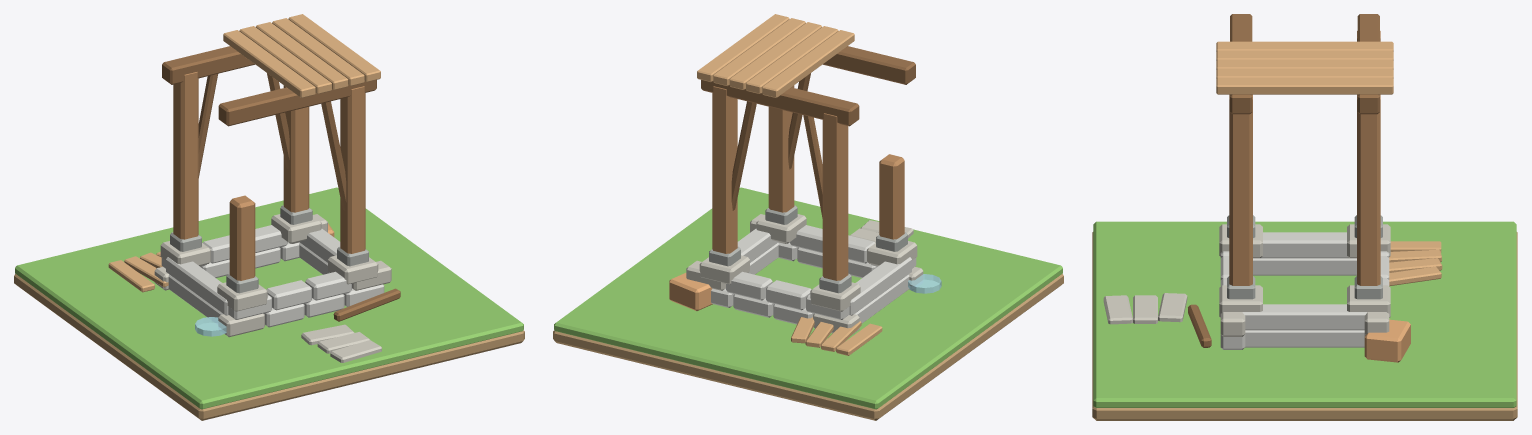
File: tower_l03_damaged.glb
3 renders of one model, left to right at view 1: azimuth 30°, elevation 25°; view 2: azimuth 150°, elevation 25°; view 3: azimuth 270°, elevation 25°, orthographic. The views are drawn at different scales.
Parts seen in each view (by area): view 1: tower_l03_grass_tile, tower_l03_earth_tile, post_-0.61_0.54, post_0.61_-0.54, deck_bearer_-0.54, post_0.61_0.54, post_-0.61_-0.54, deck_bearer_0.54, deck_board_4, stone_return_1_-0.72, deck_board_8, deck_board_6 (+27 smaller); view 2: tower_l03_grass_tile, tower_l03_earth_tile, post_-0.61_0.54, post_0.61_0.54, deck_bearer_0.54, post_0.61_-0.54, post_-0.61_-0.54, deck_bearer_-0.54, deck_board_4, stone_return_1_-0.72, deck_board_8, deck_board_6 (+22 smaller); view 3: tower_l03_grass_tile, tower_l03_earth_tile, post_0.61_0.54, post_0.61_-0.54, deck_board_8, stone_return_1_0.72, stone_return_1_-0.72, stone_return_0_0.72, stone_return_0_-0.72, deck_board_4, deck_board_5, deck_board_6 (+20 smaller).
Boxes of the visible parts, <box> form: tower_l03_grass_tile: <box>15,187,523,409</box>; tower_l03_earth_tile: <box>14,274,524,420</box>; post_-0.61_0.54: <box>173,72,198,239</box>; post_0.61_-0.54: <box>340,86,365,253</box>; deck_bearer_-0.54: <box>218,80,376,126</box>; post_0.61_0.54: <box>283,85,309,212</box>; post_-0.61_-0.54: <box>229,195,255,280</box>; deck_bearer_0.54: <box>162,46,254,84</box>; deck_board_4: <box>223,30,315,97</box>; stone_return_1_-0.72: <box>166,257,228,315</box>; deck_board_8: <box>288,14,380,81</box>; deck_board_6: <box>256,22,348,89</box>; tower_l03_grass_tile: <box>554,187,1062,409</box>; tower_l03_earth_tile: <box>553,274,1063,420</box>; post_-0.61_0.54: <box>822,113,848,280</box>; post_0.61_0.54: <box>712,86,737,253</box>; deck_bearer_0.54: <box>701,80,859,126</box>; post_0.61_-0.54: <box>768,85,794,212</box>; post_-0.61_-0.54: <box>879,154,904,239</box>; deck_bearer_-0.54: <box>823,46,915,84</box>; deck_board_4: <box>762,30,854,97</box>; stone_return_1_-0.72: <box>849,257,911,315</box>; deck_board_8: <box>697,14,789,81</box>; deck_board_6: <box>729,22,821,89</box>; tower_l03_grass_tile: <box>1093,221,1516,407</box>; tower_l03_earth_tile: <box>1092,232,1517,420</box>; post_0.61_0.54: <box>1357,94,1380,285</box>; post_0.61_-0.54: <box>1229,94,1252,285</box>; deck_board_8: <box>1216,77,1393,94</box>; stone_return_1_0.72: <box>1242,304,1367,330</box>; stone_return_1_-0.72: <box>1260,232,1349,258</box>; stone_return_0_0.72: <box>1245,330,1364,347</box>; stone_return_0_-0.72: <box>1253,258,1356,275</box>; deck_board_4: <box>1216,41,1393,51</box>; deck_board_5: <box>1216,50,1393,60</box>; deck_board_6: <box>1216,59,1393,69</box>.
Size of the model in its own units: 3.6 by 2.69 by 3.6.
